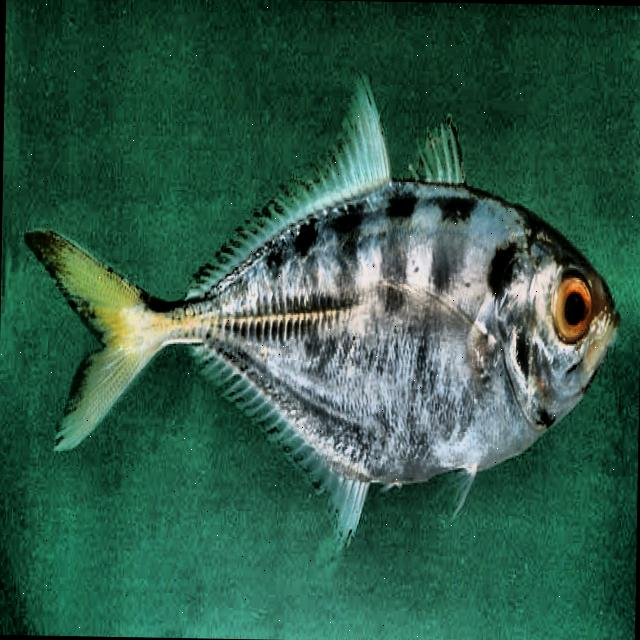fish: (18, 70, 624, 554)
